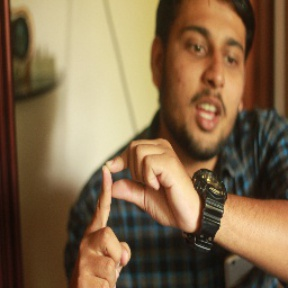P: (76, 139, 184, 288)
